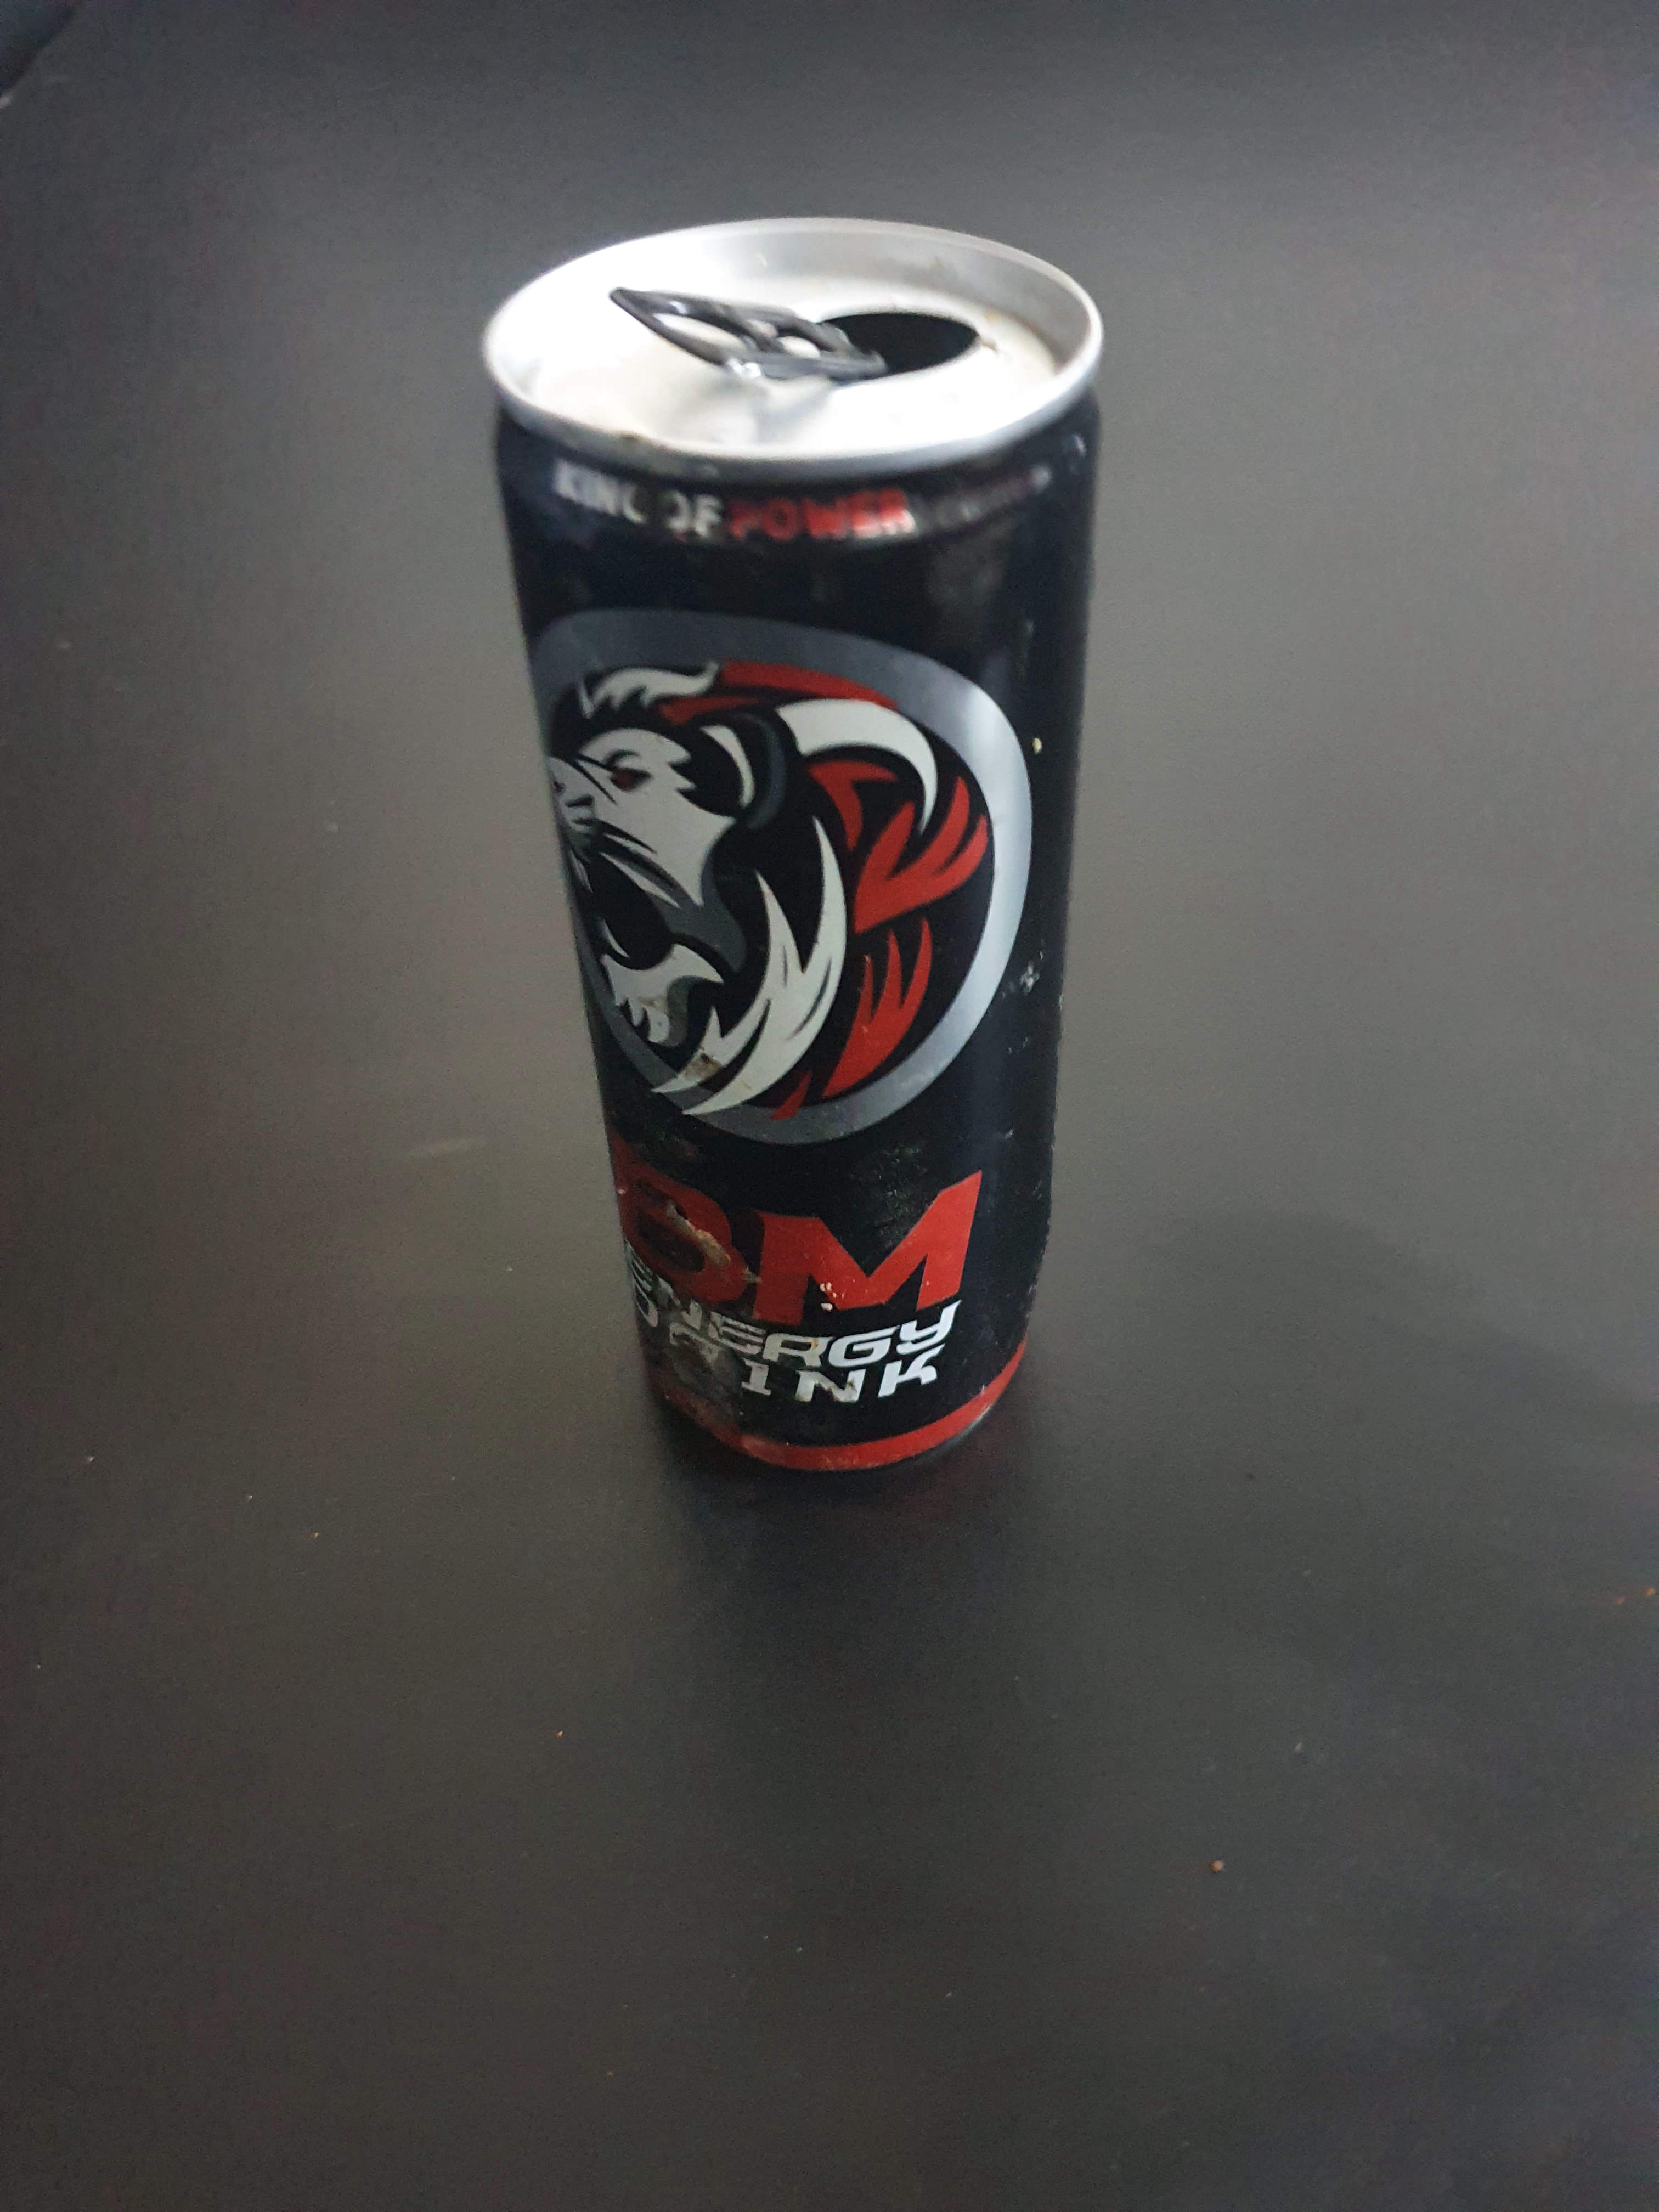metal: (460, 145, 1141, 1540)
